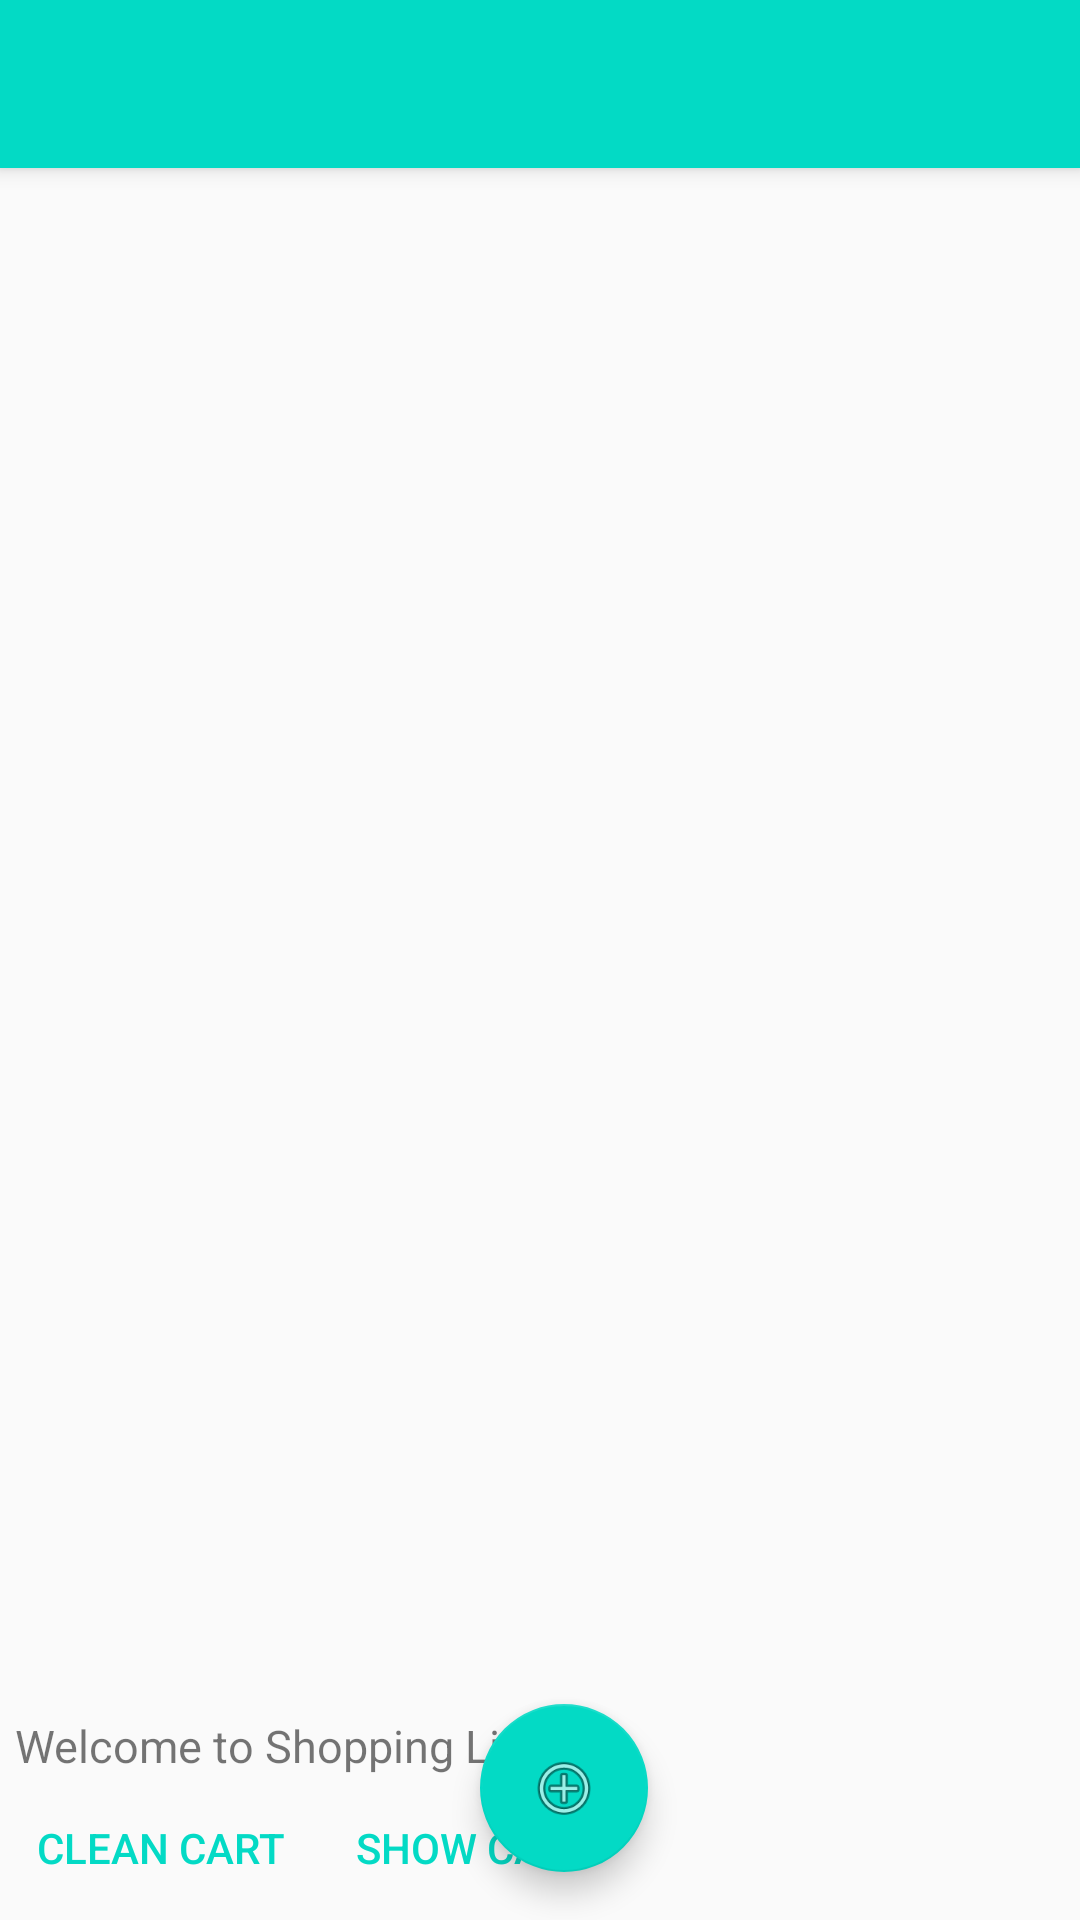

Named icons in this screenshot (1080px×1920px) and their bounding boxes, (left=x1, top=y1, right=x2, bottom=y2):
add: (left=480, top=1704, right=648, bottom=1872)
